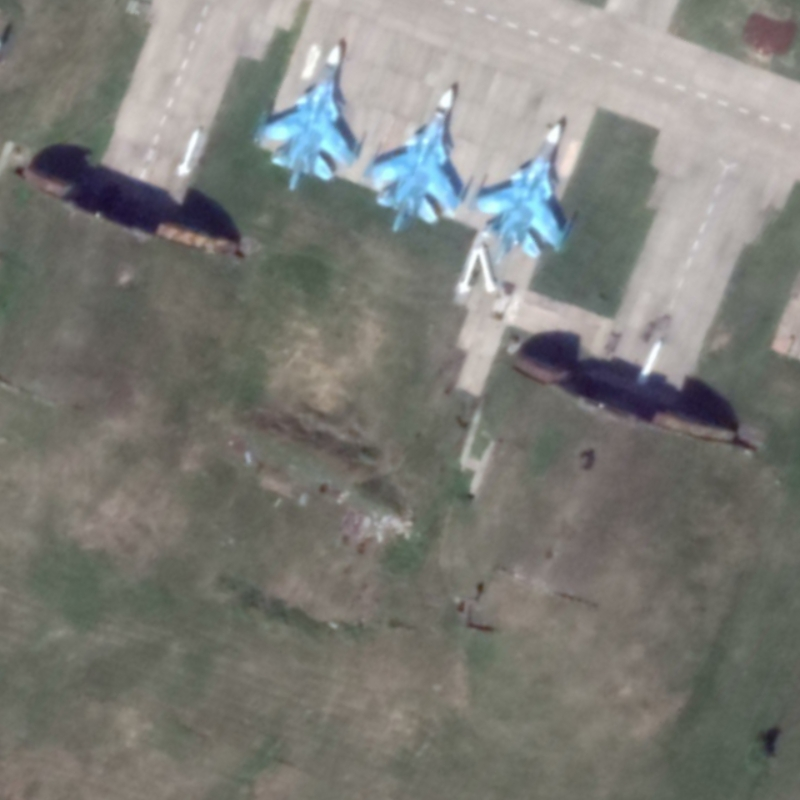A19: (249, 41, 368, 192), (358, 85, 471, 236), (465, 120, 579, 265)
